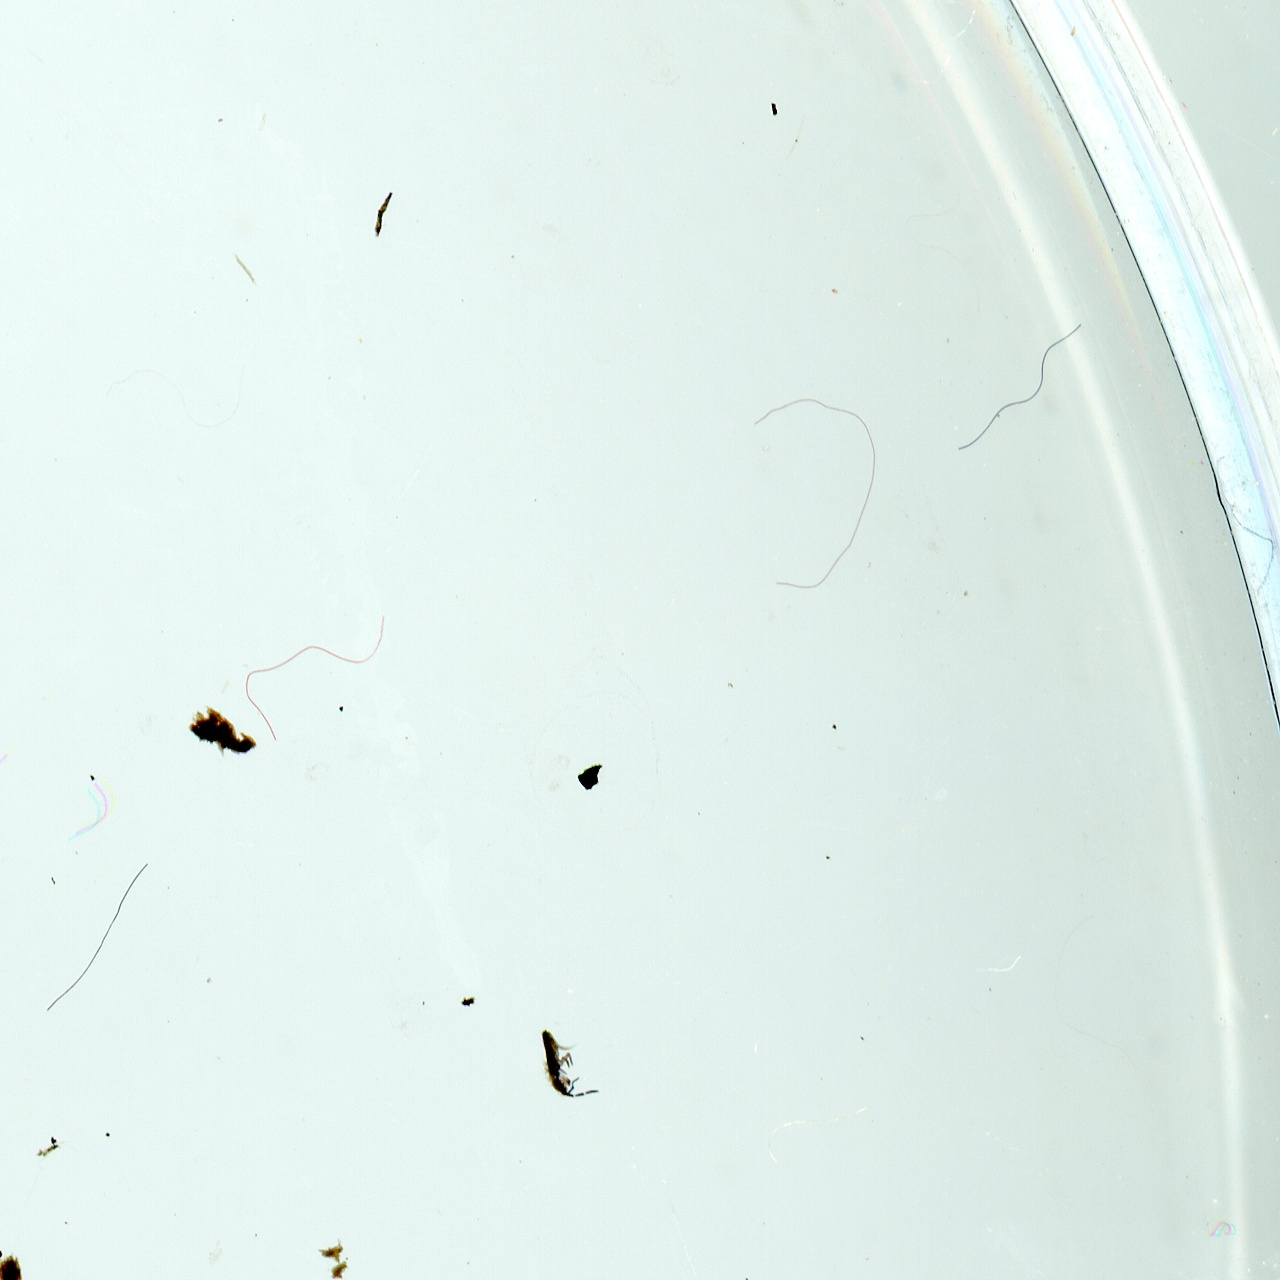arthropod: (527, 1013, 607, 1114)
